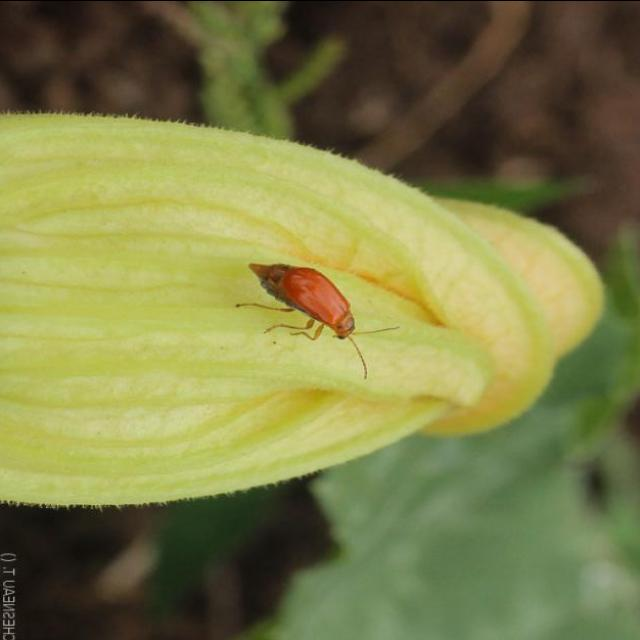Pumpkin Beetle: (229, 260, 408, 383)
